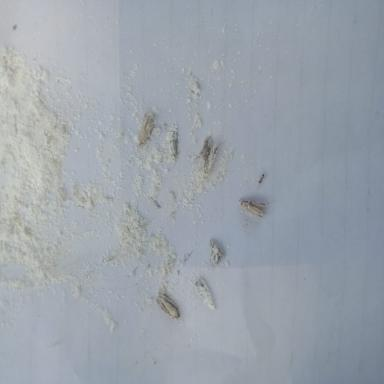pbw: (194, 278, 217, 311), (155, 294, 182, 321), (238, 198, 274, 218), (202, 137, 220, 174), (140, 111, 156, 145), (168, 126, 178, 163), (210, 240, 225, 258)
